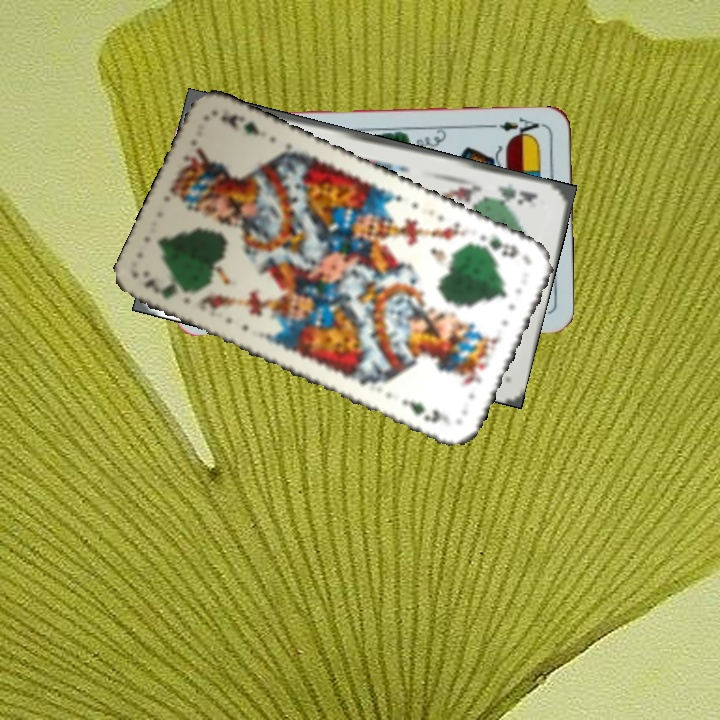EA: (495, 114, 546, 141)
GK: (486, 179, 541, 208), (472, 233, 521, 261), (139, 274, 180, 301)
